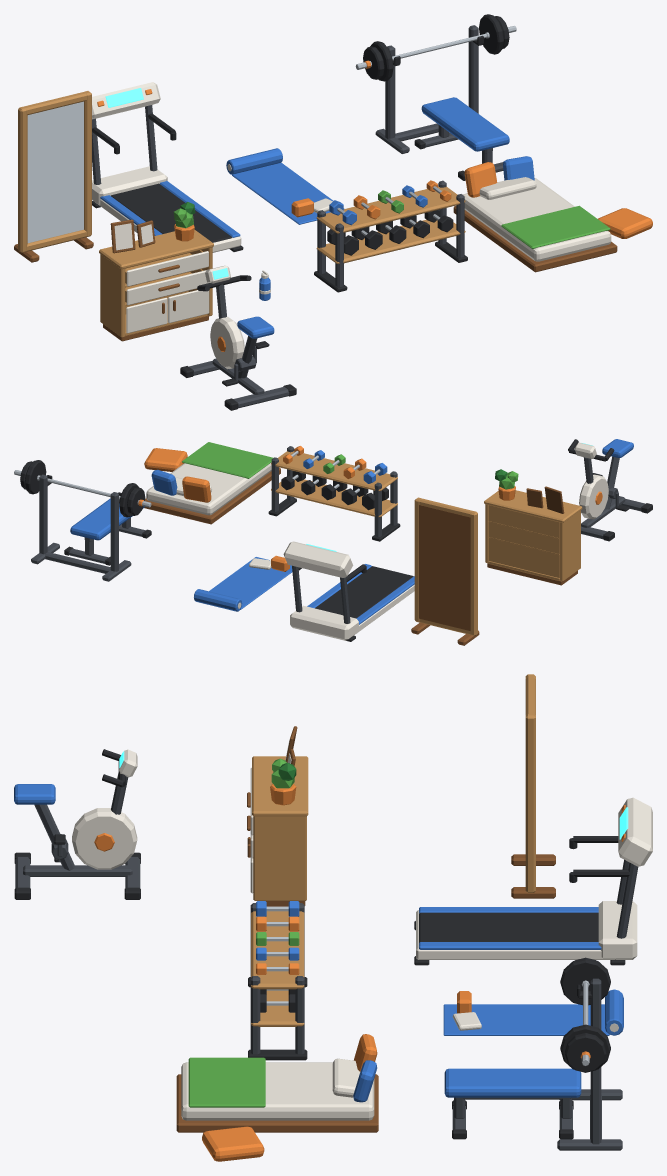
Rendered from cosy-home-gym-set.glb.
The picture shows the model from 3 angles, top to bottom: view 1: azimuth 30°, elevation 25°; view 2: azimuth 150°, elevation 25°; view 3: azimuth 270°, elevation 25°; orthographic projection. The views are drawn at different scales.
Parts seen in each view (by area): view 1: Mirror_Glass, Futon_Mattress, YogaMat_Flat, Futon_Blanket, Treadmill_Belt, Bench_Pad, Barbell, Rack_Shelf_2.7, Cabinet_Top, Cabinet_Side_-1, Futon_Base, Rack_Shelf_1.3 (+19 smaller); view 2: Mirror_Back, Cabinet_Back, Futon_Mattress, Treadmill_Belt, Futon_Blanket, YogaMat_Flat, Barbell, Rack_Shelf_2.7, Treadmill_Console, Treadmill_Hood, Cabinet_Side_-1, Cabinet_Top (+25 smaller); view 3: Futon_Mattress, Treadmill_Belt, Cabinet_Side_1, Bench_Pad, YogaMat_Flat, Futon_Blanket, Barbell, Bike_Flywheel, Futon_Base, Treadmill, Rack_Shelf_2.7, Cabinet_Top (+15 smaller).
Boxes of the visible parts, x1=… form: Mirror_Glass: x1=27, y1=101, x2=83, y2=243; Futon_Mattress: x1=462, y1=178, x2=611, y2=261; YogaMat_Flat: x1=232, y1=162, x2=344, y2=224; Futon_Blanket: x1=501, y1=205, x2=610, y2=248; Treadmill_Belt: x1=111, y1=183, x2=231, y2=242; Bench_Pad: x1=421, y1=97, x2=509, y2=151; Barbell: x1=363, y1=14, x2=516, y2=81; Rack_Shelf_2.7: x1=316, y1=186, x2=465, y2=233; Cabinet_Top: x1=99, y1=230, x2=213, y2=269; Cabinet_Side_-1: x1=100, y1=249, x2=125, y2=337; Futon_Base: x1=453, y1=206, x2=617, y2=272; Rack_Shelf_1.3: x1=316, y1=219, x2=465, y2=263; Mirror_Back: x1=419, y1=505, x2=470, y2=630; Cabinet_Back: x1=488, y1=505, x2=559, y2=580; Futon_Mattress: x1=146, y1=462, x2=271, y2=515; Treadmill_Belt: x1=315, y1=566, x2=413, y2=618; Futon_Blanket: x1=182, y1=442, x2=273, y2=478; YogaMat_Flat: x1=209, y1=557, x2=292, y2=609; Barbell: x1=14, y1=460, x2=145, y2=517; Rack_Shelf_2.7: x1=271, y1=451, x2=397, y2=491; Treadmill_Console: x1=283, y1=541, x2=353, y2=577; Treadmill_Hood: x1=290, y1=605, x2=358, y2=640; Cabinet_Side_-1: x1=560, y1=505, x2=580, y2=581; Cabinet_Top: x1=484, y1=490, x2=582, y2=522; Futon_Mattress: x1=181, y1=1062, x2=374, y2=1120; Treadmill_Belt: x1=419, y1=912, x2=598, y2=942; Cabinet_Side_1: x1=253, y1=809, x2=306, y2=900; Bench_Pad: x1=444, y1=1068, x2=581, y2=1097; YogaMat_Flat: x1=443, y1=1004, x2=609, y2=1035; Futon_Blanket: x1=188, y1=1057, x2=265, y2=1107; Barbell: x1=560, y1=957, x2=610, y2=1072; Bike_Flywheel: x1=72, y1=808, x2=137, y2=869; Futon_Base: x1=176, y1=1074, x2=378, y2=1132; Treadmill: x1=419, y1=862, x2=638, y2=949; Rack_Shelf_2.7: x1=251, y1=911, x2=304, y2=989; Cabinet_Top: x1=252, y1=756, x2=308, y2=816.
Size of the model in its own units: 25.42 by 6.9 by 21.52.
